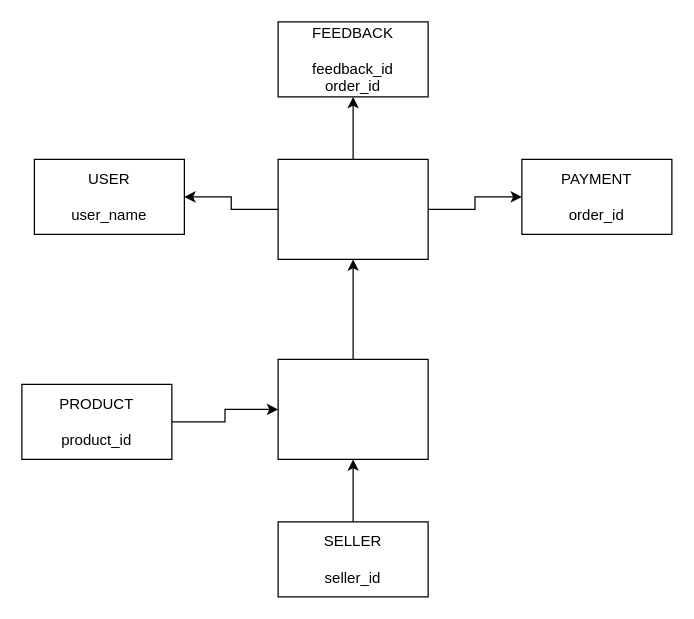
Image size: 694x619. Some labels were removed from this diagram. Each missing label, with the box of its shape:
ORDER-ITEM order_id product_id seller_id: (277, 358, 428, 459)
ORDERS order_id user_name: (277, 158, 428, 259)
